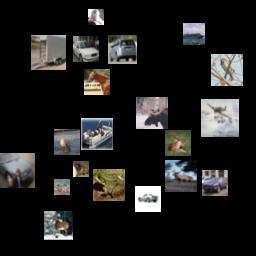airplane: (201, 99, 239, 137)
automobile: (0, 153, 35, 188), (108, 35, 137, 64), (135, 186, 161, 212), (73, 36, 99, 62), (202, 170, 228, 196)
bird: (211, 54, 243, 86)
deer: (165, 160, 197, 192), (136, 97, 168, 129), (44, 211, 73, 240), (54, 129, 80, 155), (165, 130, 191, 156)
dog: (73, 161, 89, 177), (88, 9, 104, 25)
frog: (93, 169, 125, 201), (54, 179, 70, 195)
ship: (81, 118, 113, 150), (183, 23, 205, 45)
truck: (31, 35, 66, 70)
